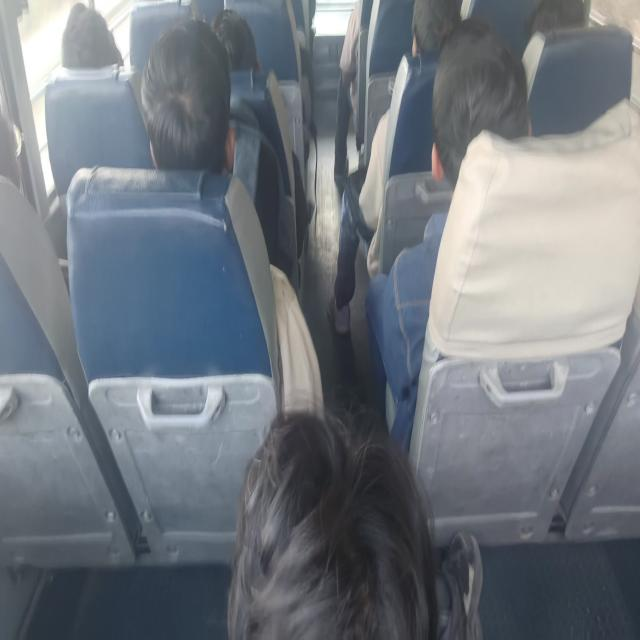person: (217, 415, 438, 640), (420, 40, 527, 193), (149, 37, 225, 169), (53, 2, 127, 90), (195, 0, 260, 74), (0, 76, 32, 206), (412, 0, 462, 74), (528, 0, 599, 46)
